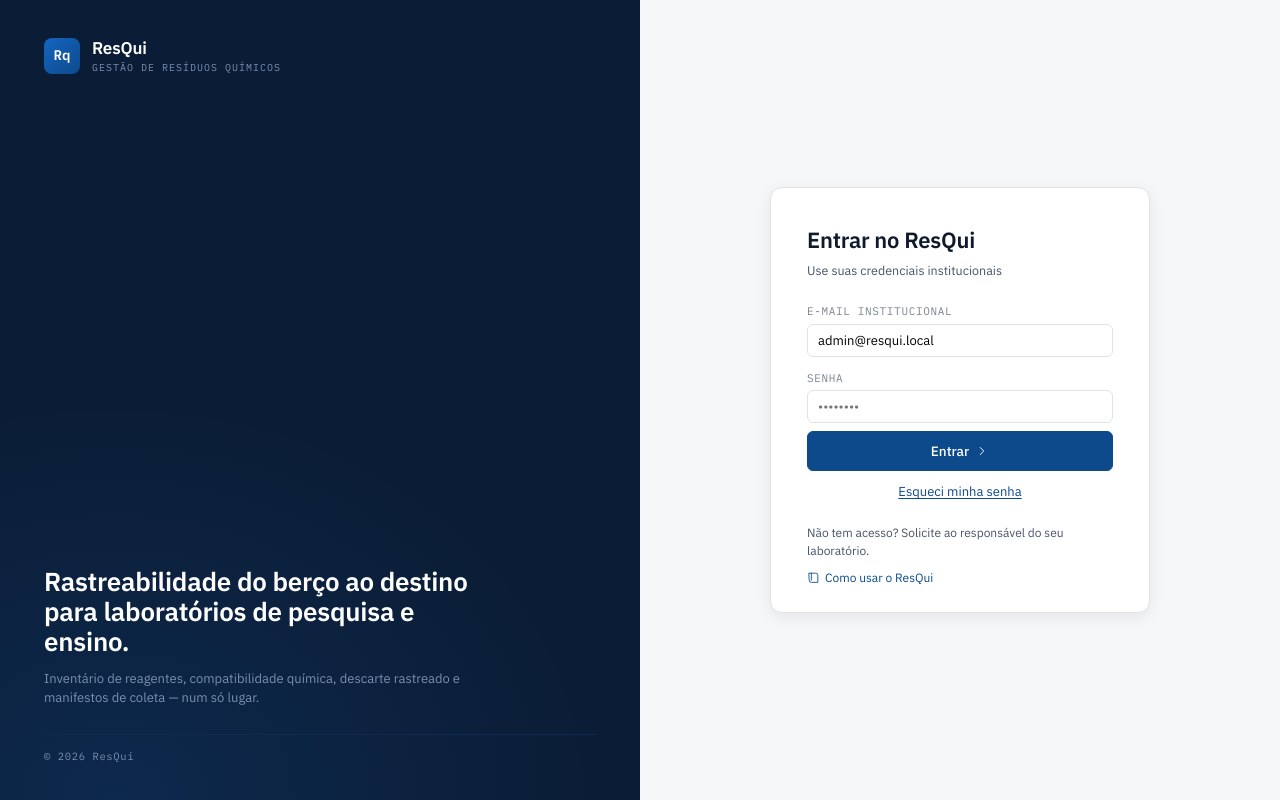
Scenario: LoginScreen — esqueci minha senha › volta para o formulário de entrada
The image size is (1280, 800).
Click the button "Esqueci minha senha": (960, 493) [898,483,1022,502]
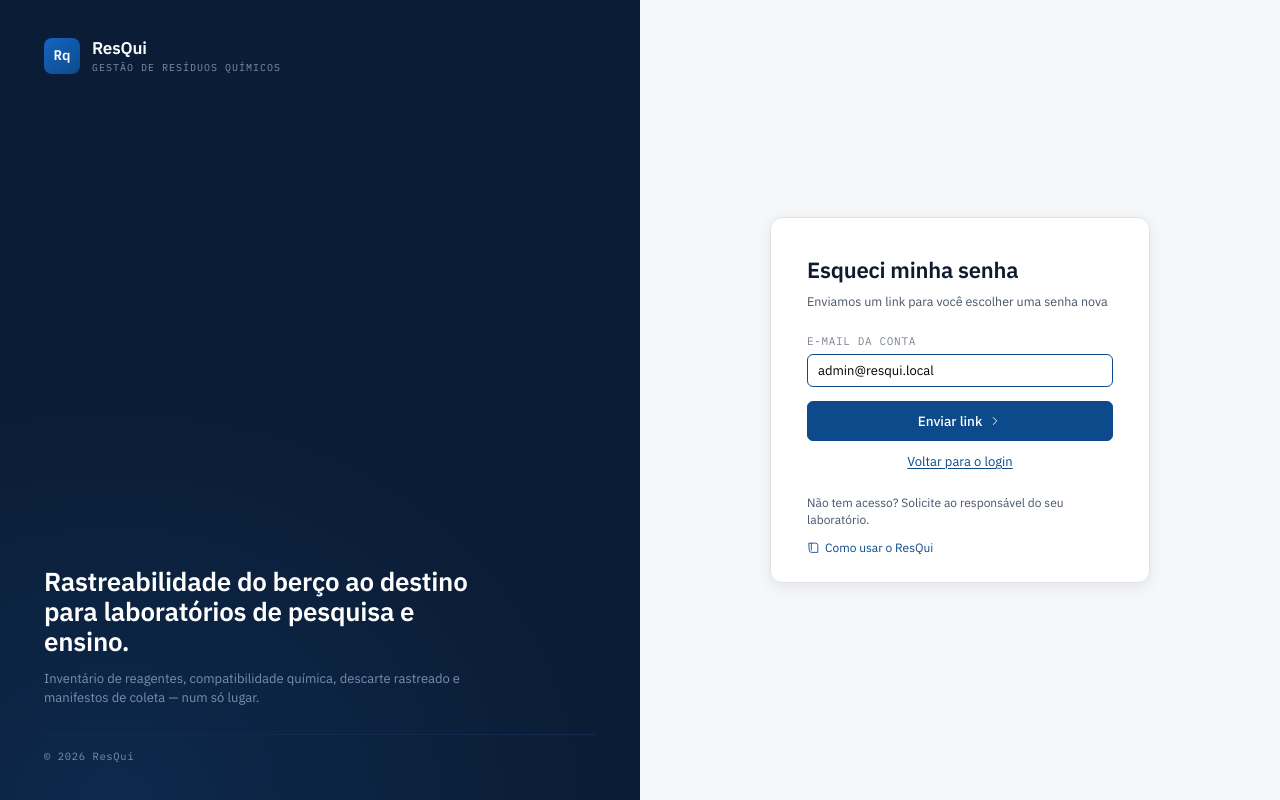
Replace the text in the field labelled "E-mail da conta" with "ana@lab.com": (960, 370) [807,354,1113,387]
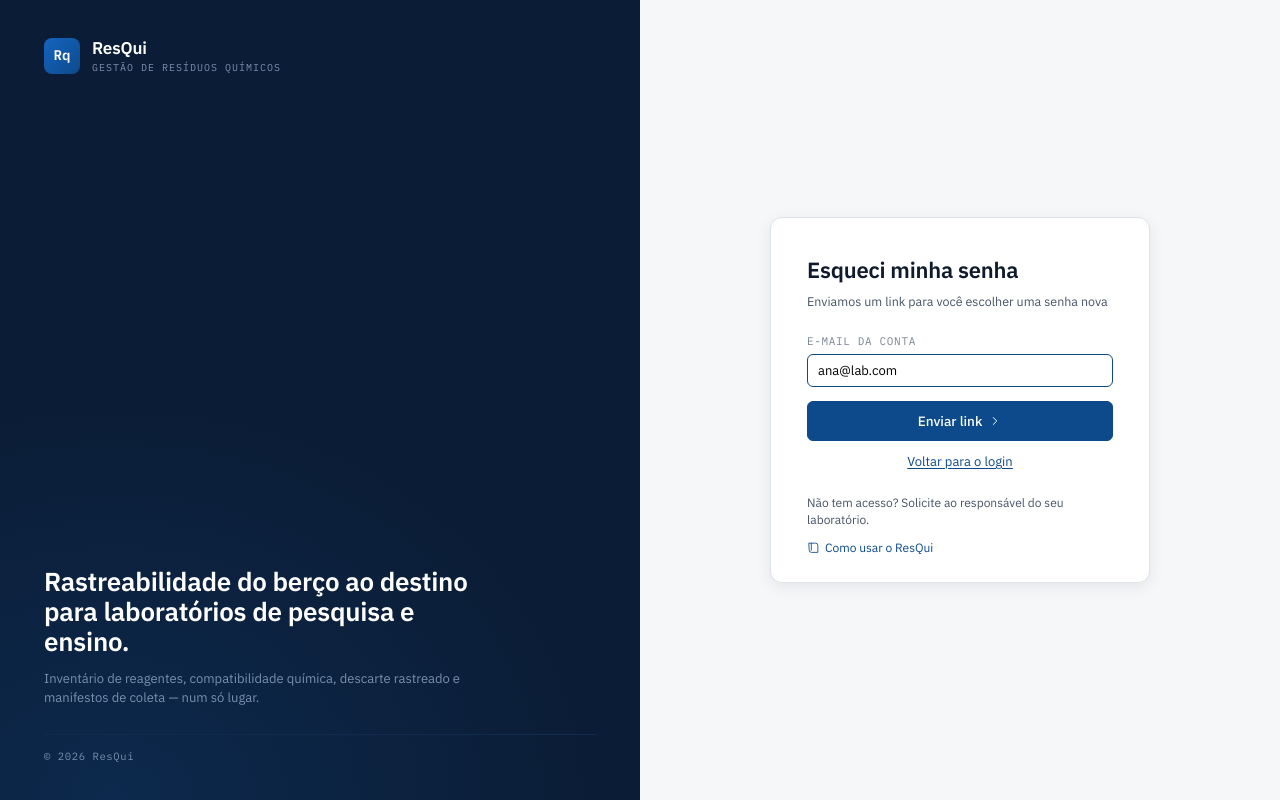
Click the button "Voltar para o login": (960, 462) [907,453,1013,472]
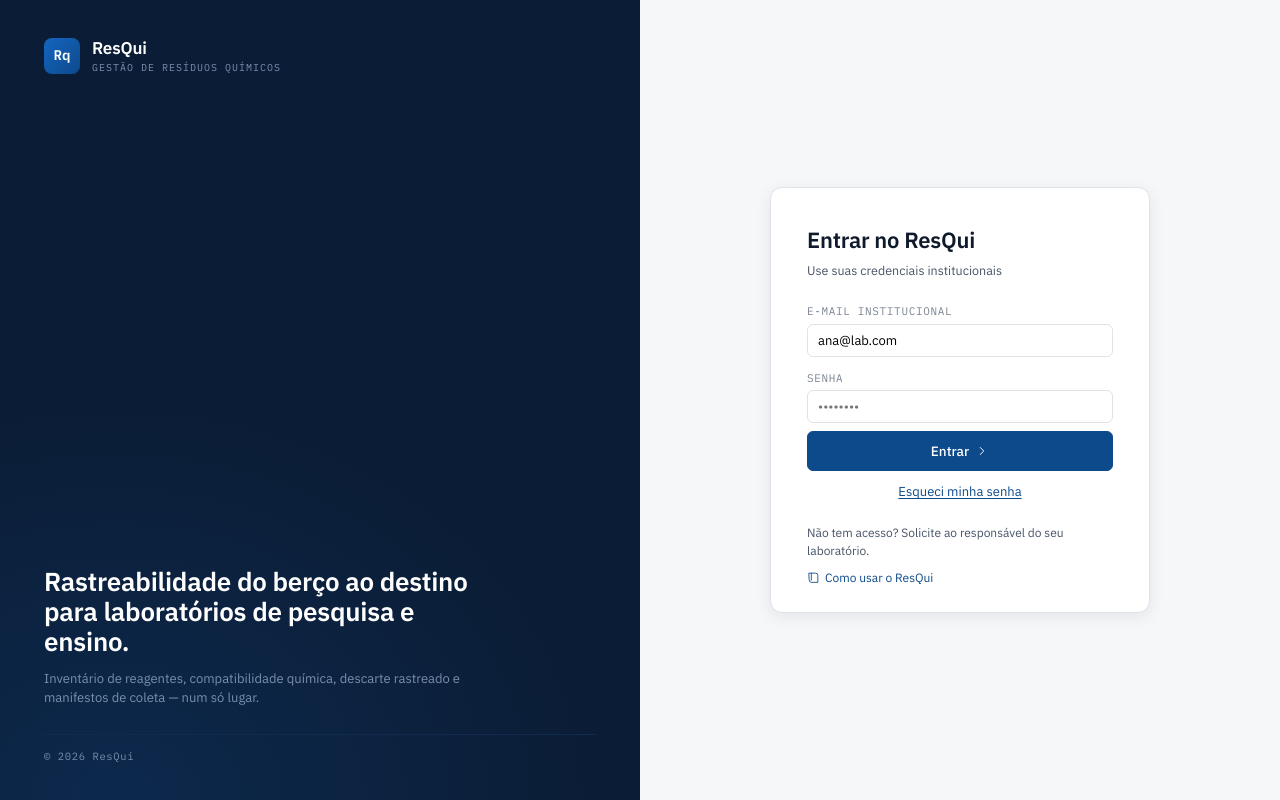
Now the heading "Entrar no ResQui" is shown, box [807,224,975,254]
